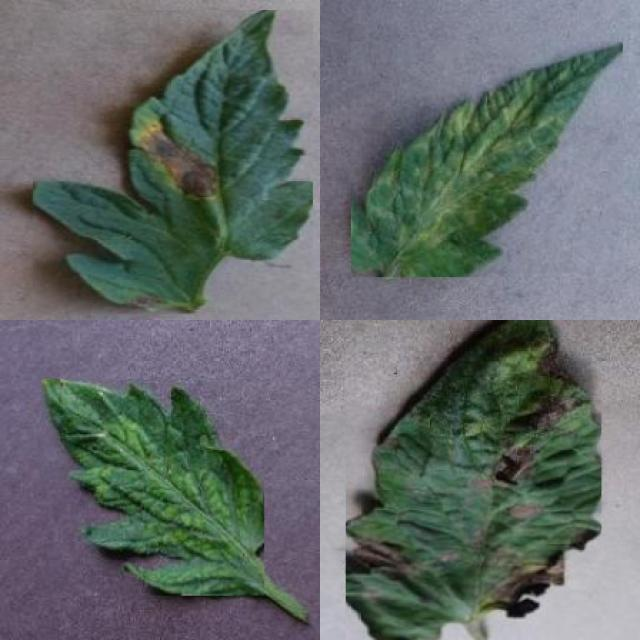Early Blight: (34, 10, 314, 314), (346, 320, 601, 640)
Leaf Mold: (350, 42, 623, 277)
Mosaic Virus: (42, 378, 264, 596)
